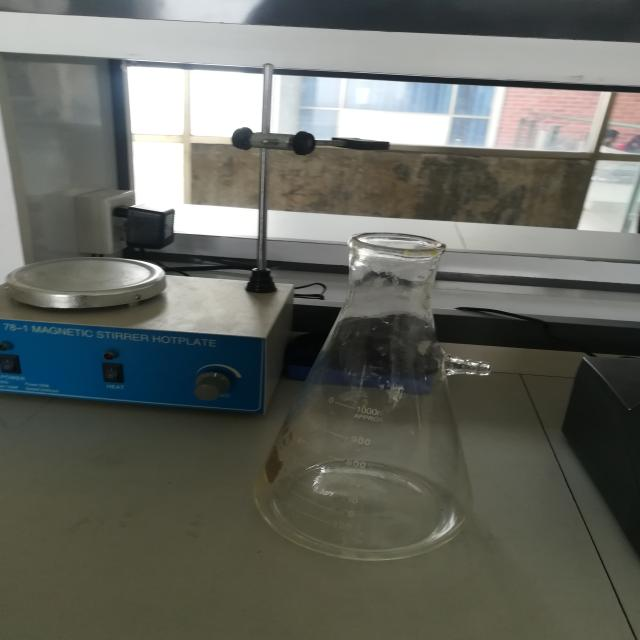Conical_Flask: (226, 221, 552, 581)
